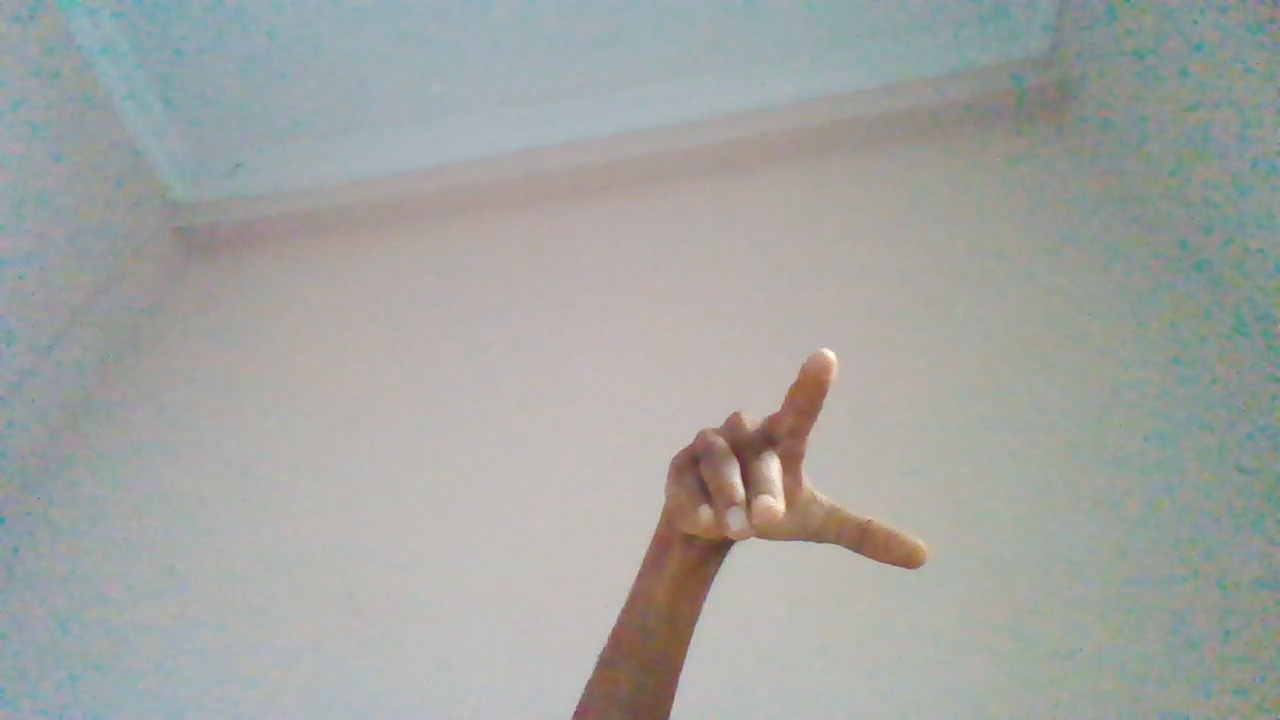ke: (615, 353, 918, 720)
